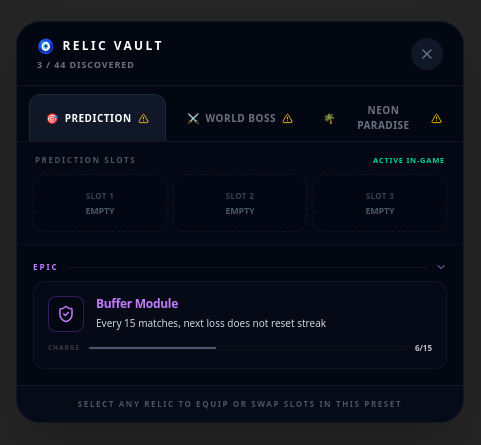
Test case: Relic System Components › RelicDrawer › displays locked state for World Boss tab when encounter is active
Click the text "World Boss": (241, 118) 206,111 -> 276,126
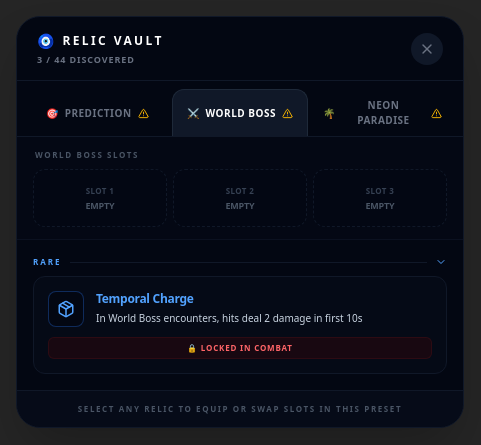
Now the text "🔒 Locked in Combat" is shown, box 187,342 -> 293,353
